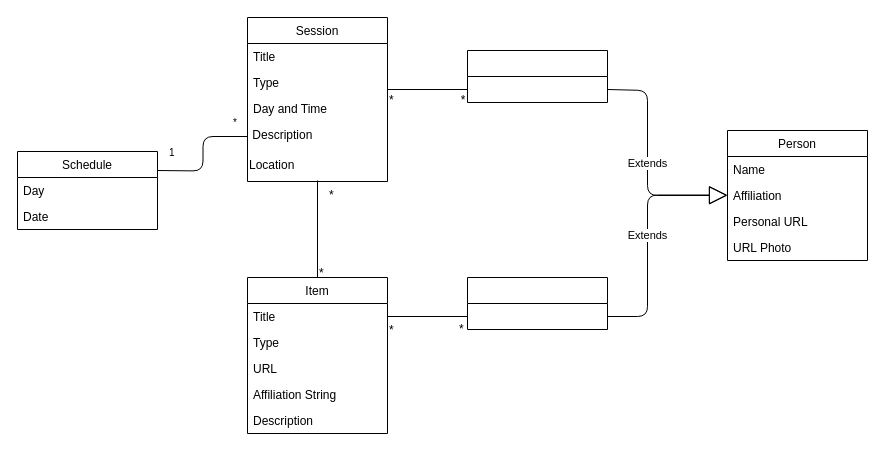
The diagram is 885 pixels wide and 454 high, and some of its shapes have lost their labels. Each missing label, with the box of its shape:
Author: (466, 276, 608, 330)
Chair: (466, 50, 608, 102)
